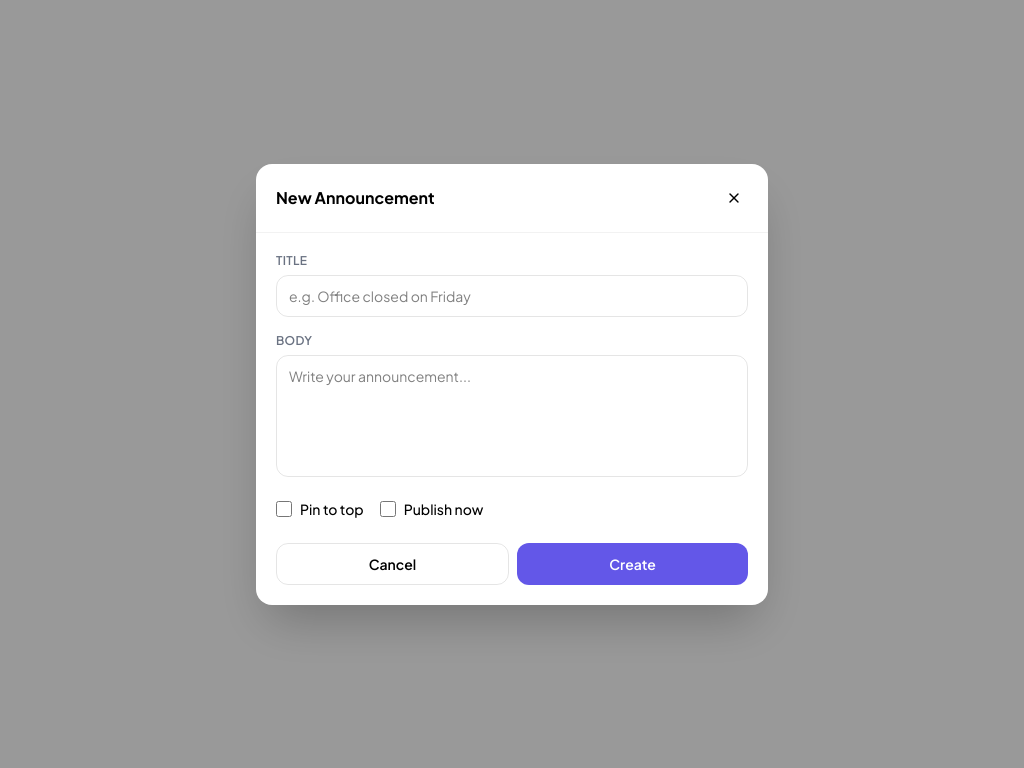
Test: AnnouncementModal › shows validation error when title empty
Click the button with test id "announcement-submit-btn" at coordinates (632, 564), box [517,542,748,584]
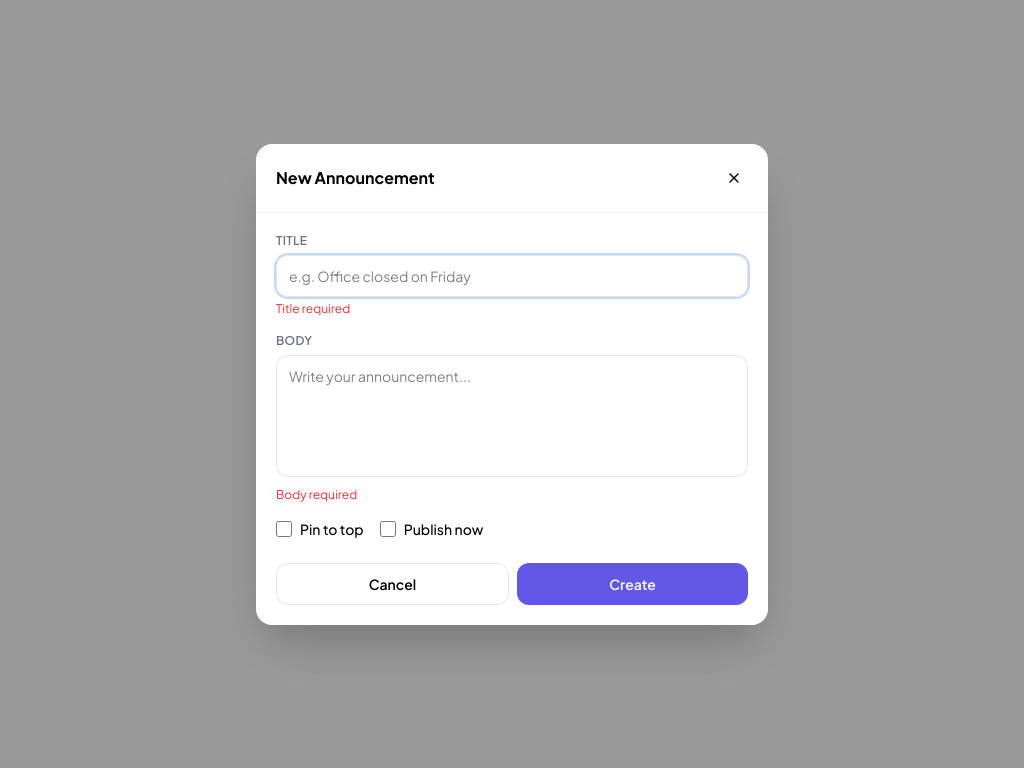
Check: the text "Title required" is shown, box [276,300,350,316]
